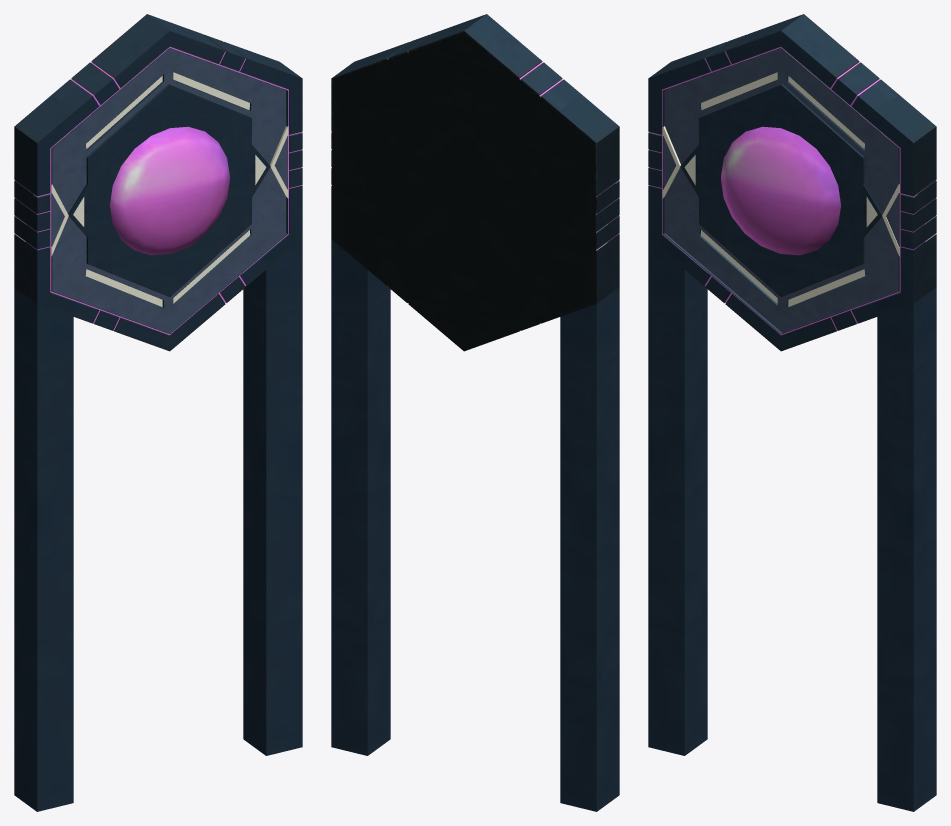
The model's file is pm-teleporter-01.glb.
The picture shows the model from 3 angles, left to right: view 1: azimuth 30°, elevation 25°; view 2: azimuth 150°, elevation 25°; view 3: azimuth 330°, elevation 25°; orthographic projection.
Visible parts, largest first — view 1: Teleporter01_Art; view 2: Teleporter01_Art; view 3: Teleporter01_Art.
Boxes of the visible parts, box(x1,y1,x2,y2) form: Teleporter01_Art: box(14, 14, 302, 811); Teleporter01_Art: box(331, 14, 619, 811); Teleporter01_Art: box(648, 14, 936, 811).
Bounding box in the file's own units: 1.18 × 3.17 × 0.2487.
Materials: 1 (1 with a texture image).
